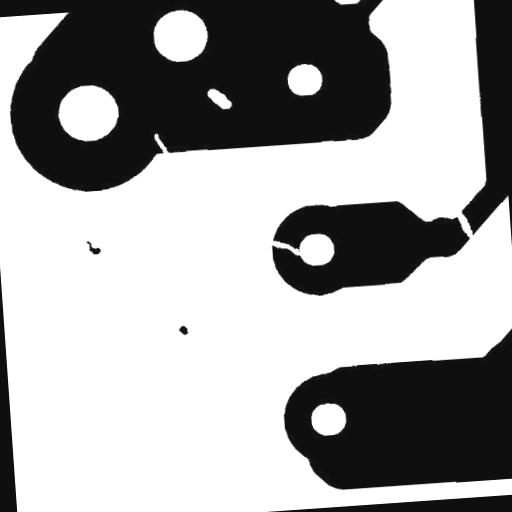copper: (78, 232, 109, 263), (170, 317, 196, 343)
mousebite: (146, 124, 180, 170)
open: (444, 198, 482, 249), (261, 231, 312, 265)
pin-hole: (199, 79, 240, 118)
